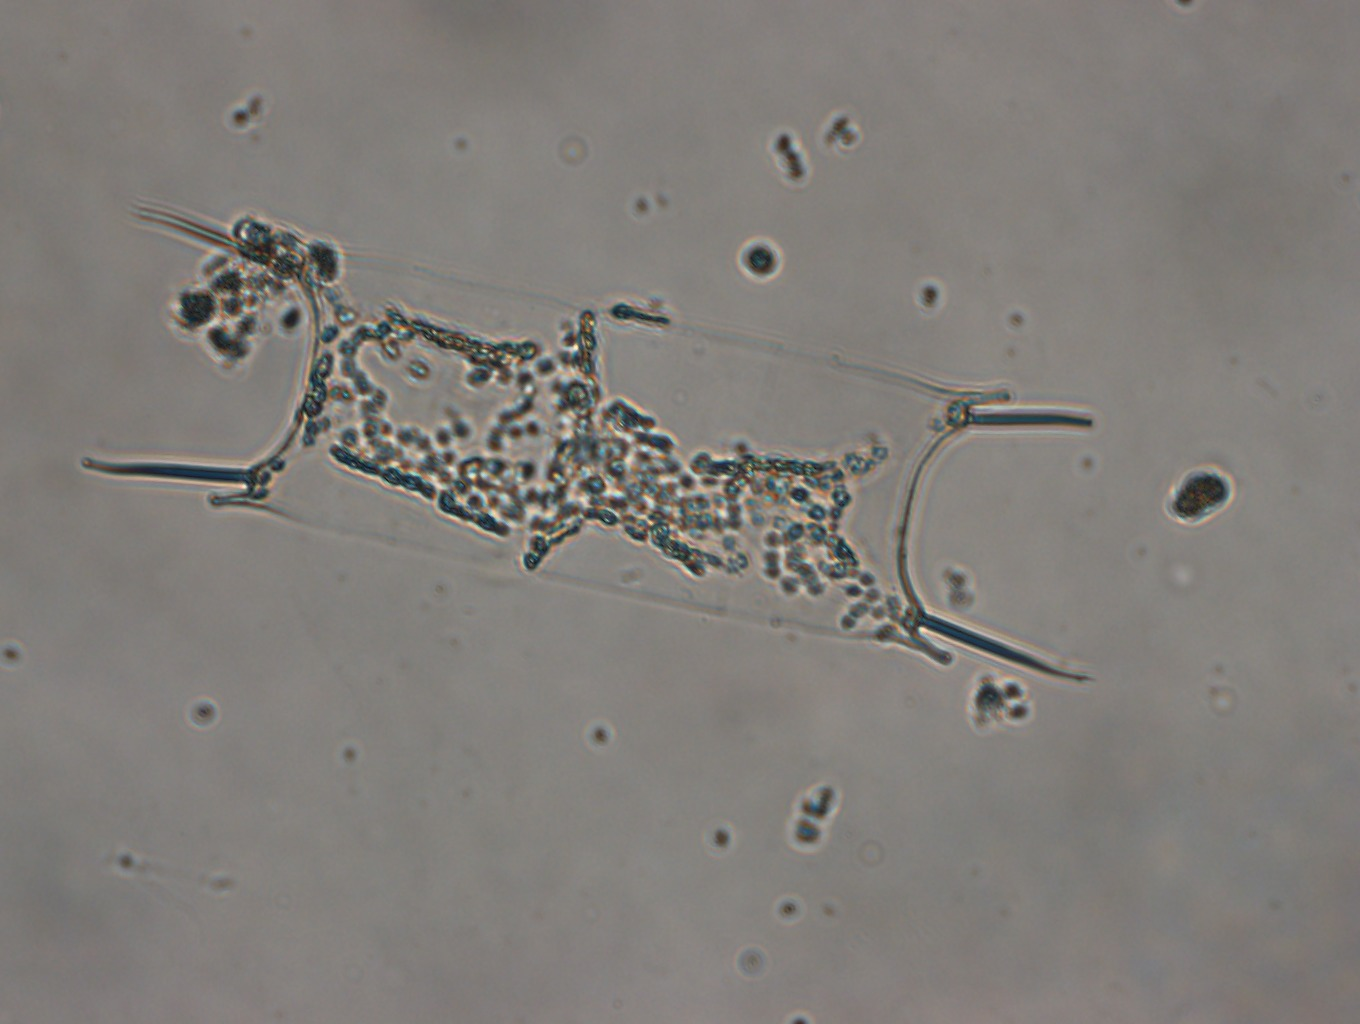biddulphia: (82, 199, 1094, 688)
